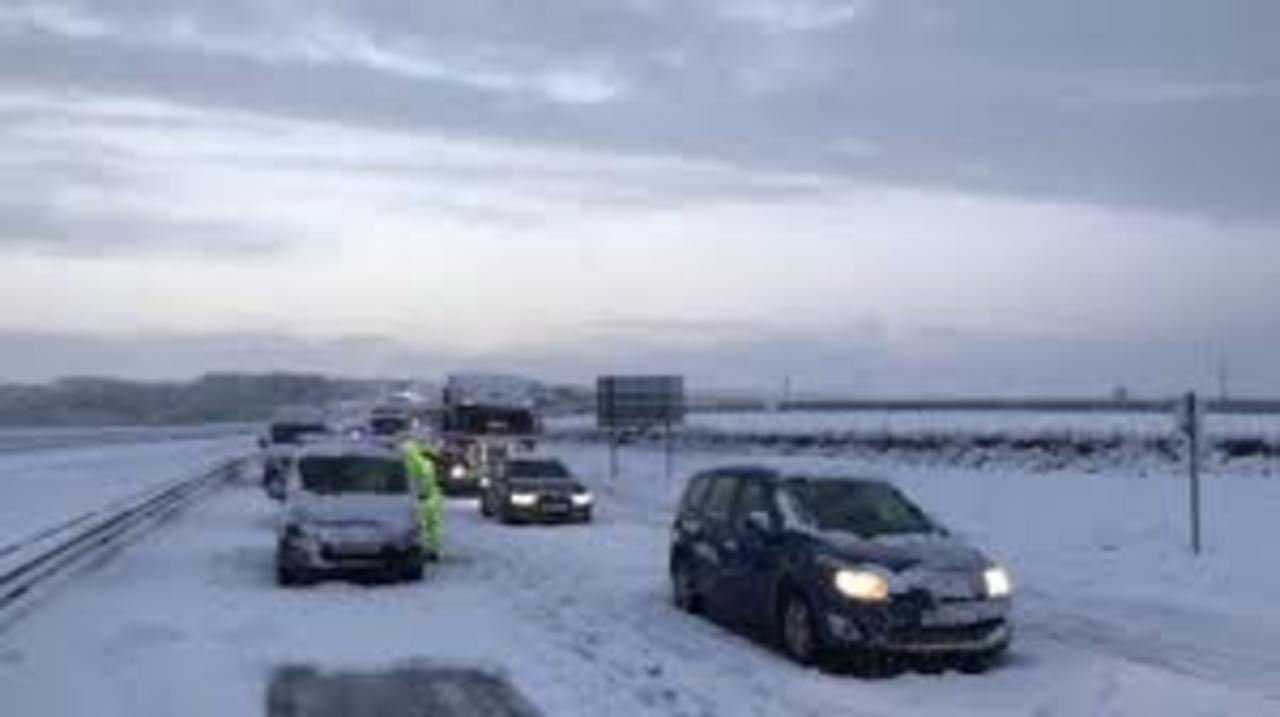car: (662, 461, 1022, 676), (281, 442, 424, 568), (483, 452, 594, 526), (261, 405, 327, 480)
truck: (432, 380, 543, 489)
